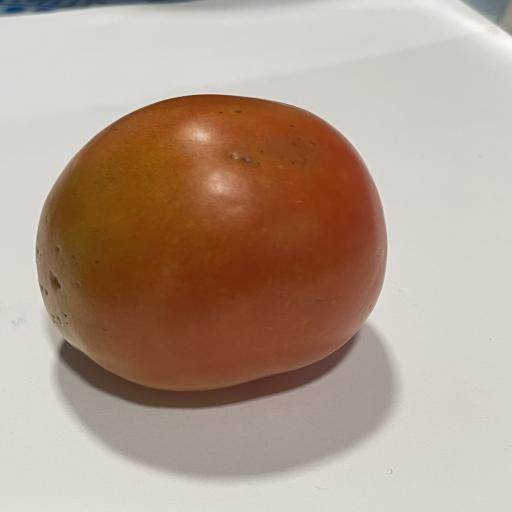unripe: (36, 95, 387, 391)
